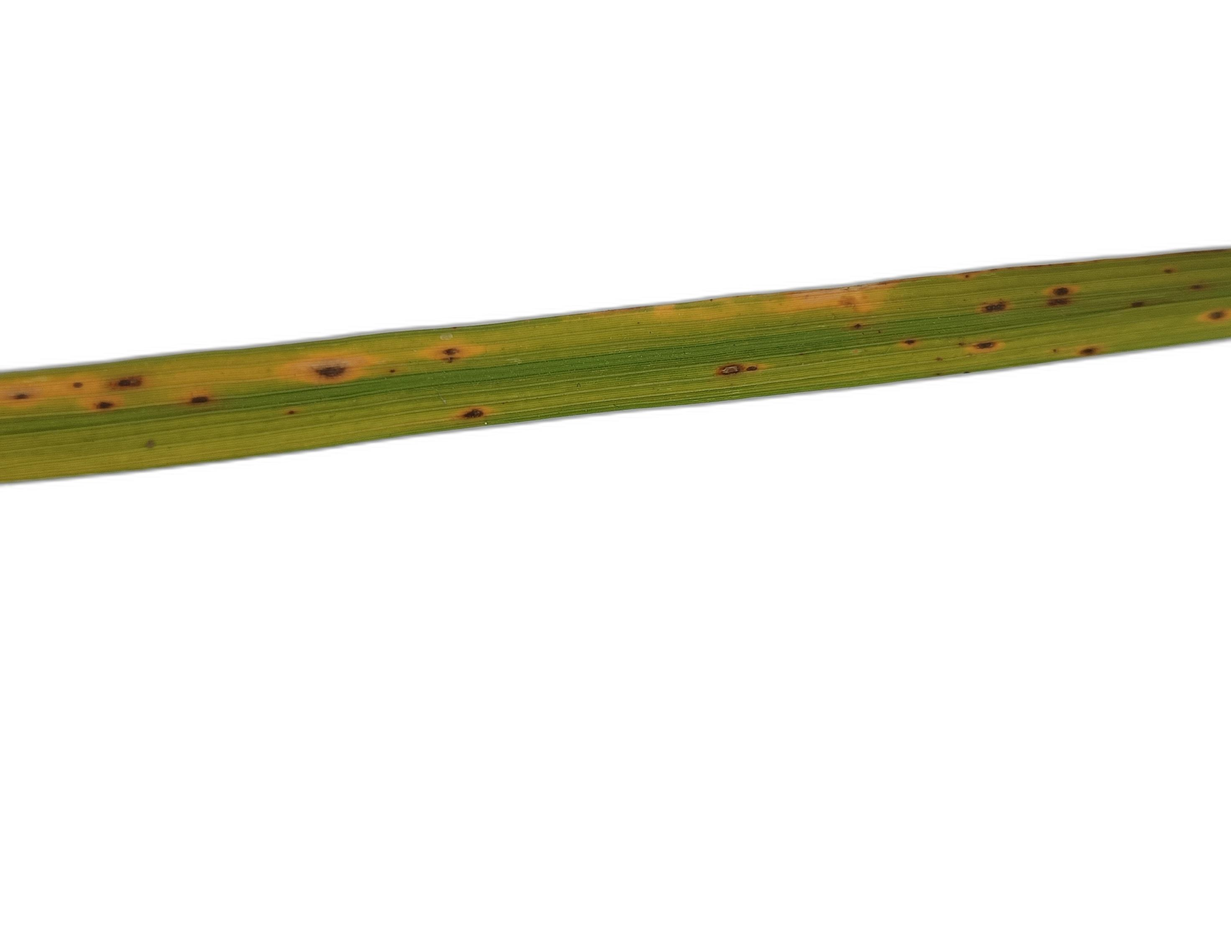LEAF: (0, 249, 1230, 483)
LEAF BLAST: (313, 362, 349, 378), (976, 299, 1013, 314), (715, 363, 744, 377), (117, 375, 143, 388), (970, 340, 999, 351), (461, 407, 486, 419), (442, 346, 463, 356), (1052, 349, 1059, 352)
